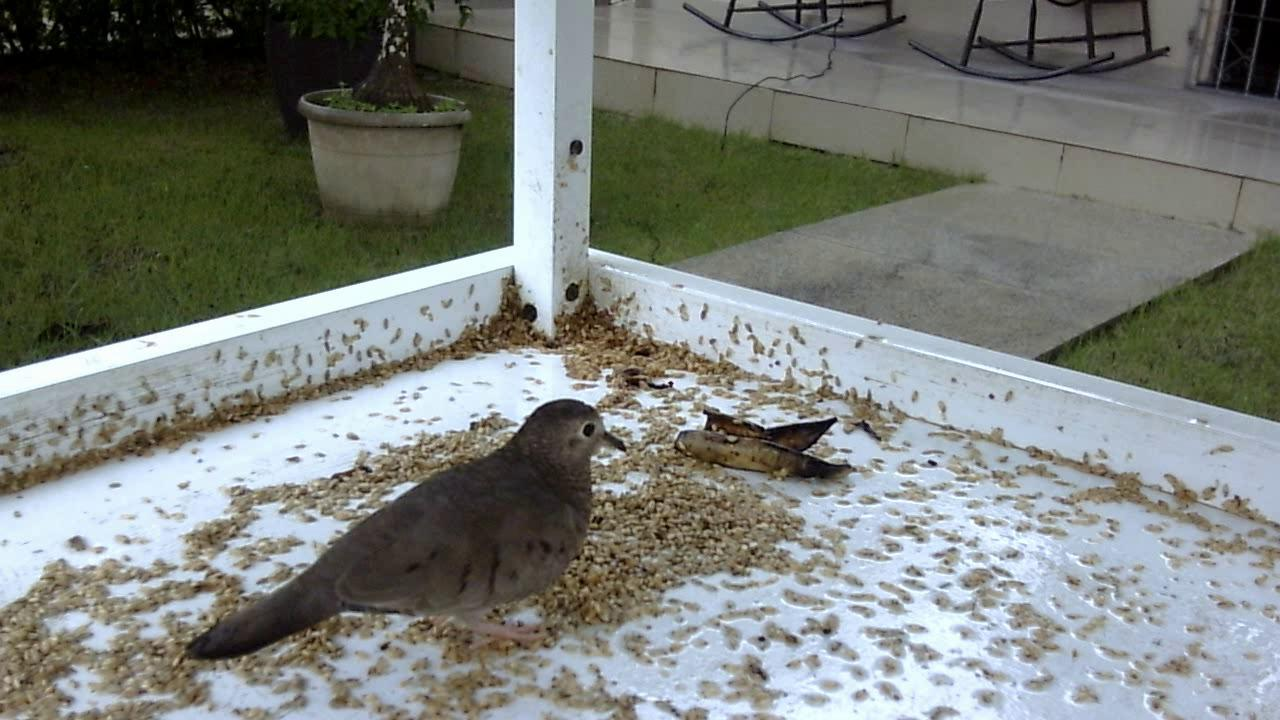rolinha: (181, 392, 635, 674)
